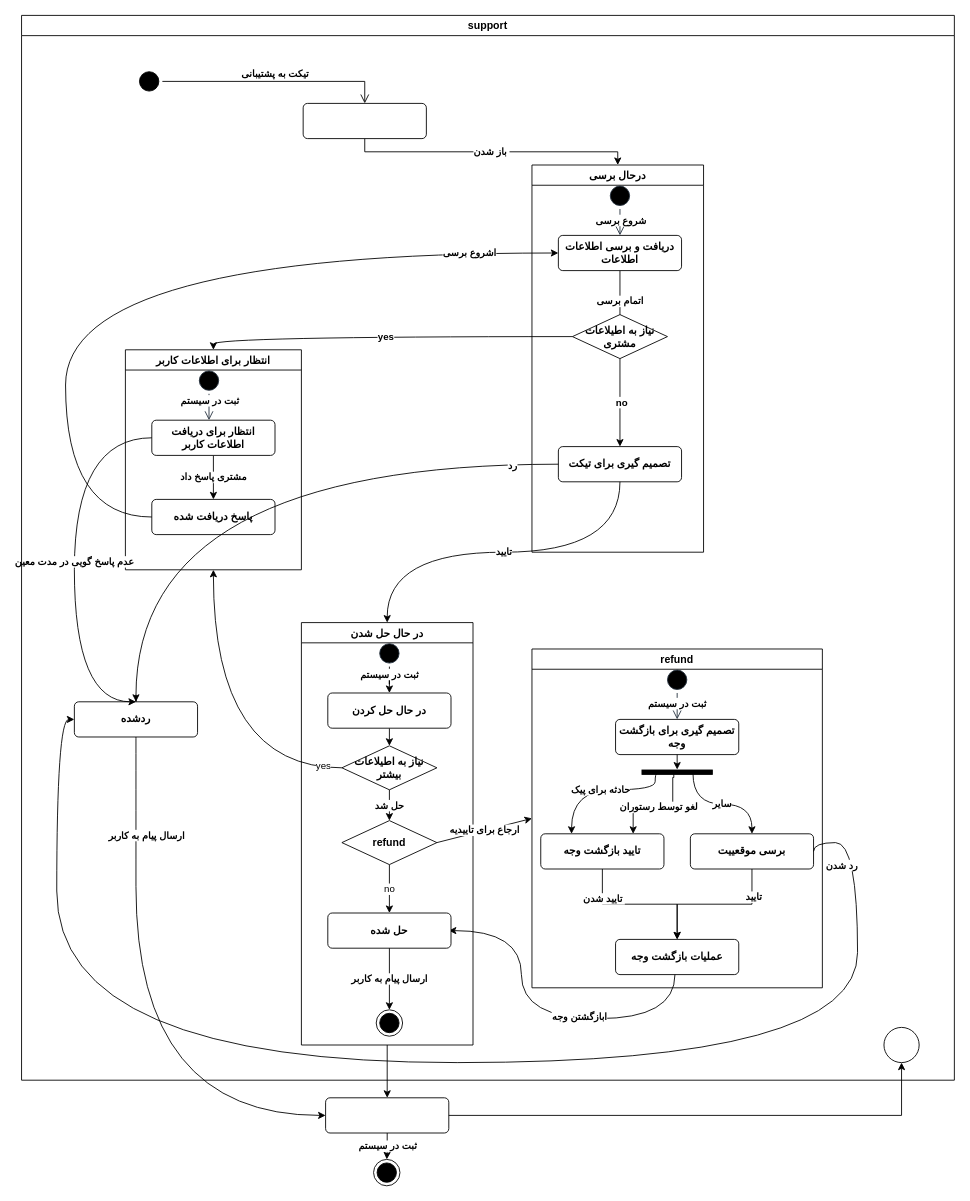
The diagram is 970 pixels wide and 1201 high, and some of its shapes have lost their labels. The shapes that lost their labels are listed below. From the top down, each one's centre as x and y in pixels, then its label:
pixel 364 121: انتظار برای برسی
pixel 901 1045: H*
pixel 387 1115: بسته شده
